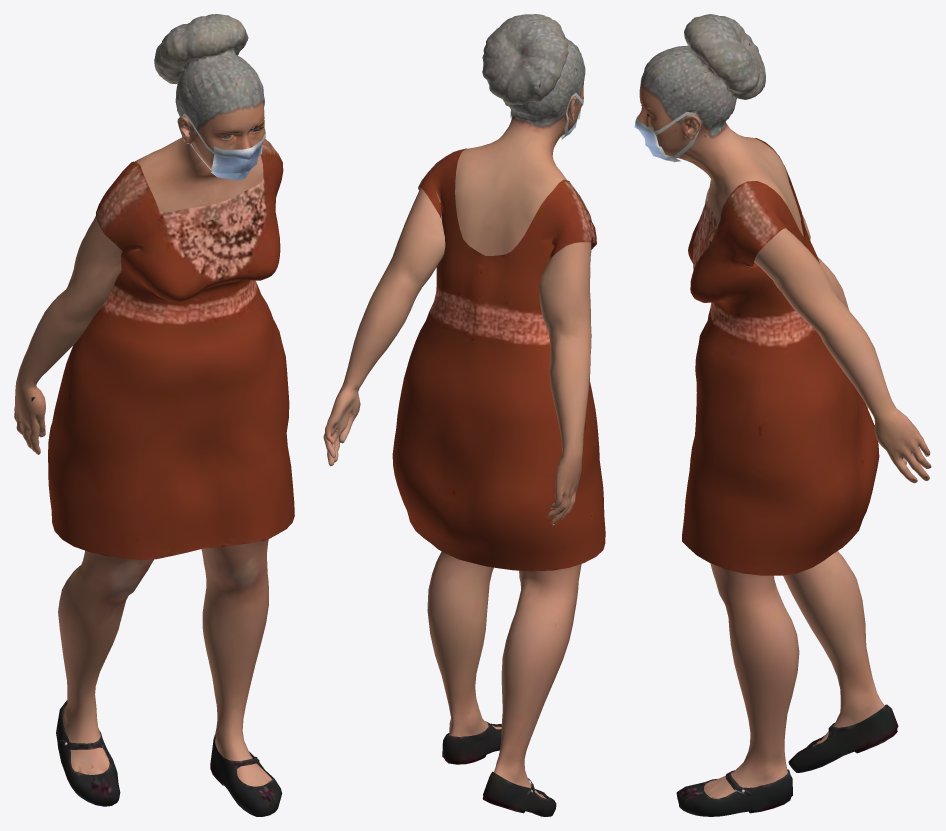
3 views of the same model, side by side, from view 1: azimuth 30°, elevation 25°; view 2: azimuth 150°, elevation 25°; view 3: azimuth 270°, elevation 25° (orthographic). The views are drawn at different scales.
Visible parts, largest first — view 1: p04783; view 2: p04783; view 3: p04783.
Part boxes in pixels (<box>): p04783: <box>14,14,294,816</box>; p04783: <box>323,14,605,816</box>; p04783: <box>634,14,931,816</box>.
Size of the model in its own units: 0.4834 by 1.56 by 0.5404.
1 material, 1 textured.
